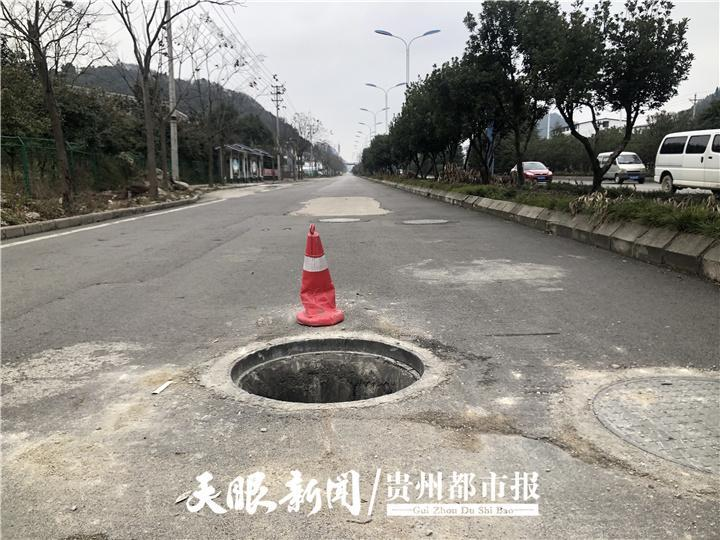wellcover: (216, 320, 453, 416)
